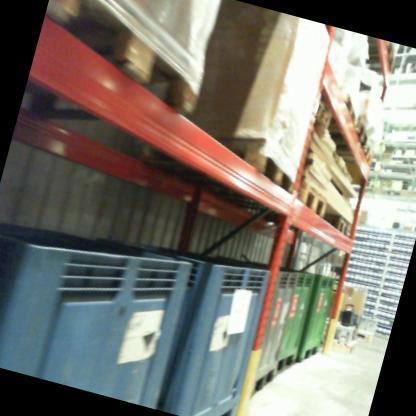pallet: (25, 0, 231, 145), (176, 120, 313, 204), (299, 76, 377, 136), (301, 106, 379, 155), (306, 131, 379, 172), (292, 178, 337, 227), (355, 34, 408, 72), (317, 208, 355, 242), (320, 332, 359, 361), (345, 325, 376, 348)
